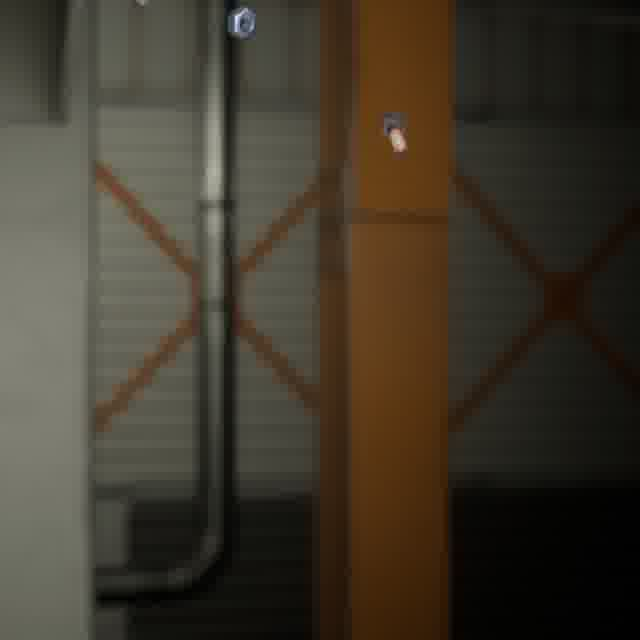bolt: (375, 107, 412, 159)
nut: (223, 2, 260, 44)
